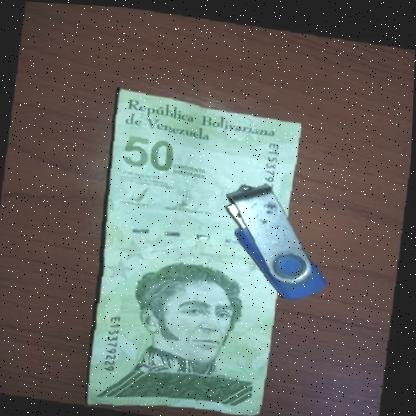fifty-front-vef: (88, 86, 303, 416)
